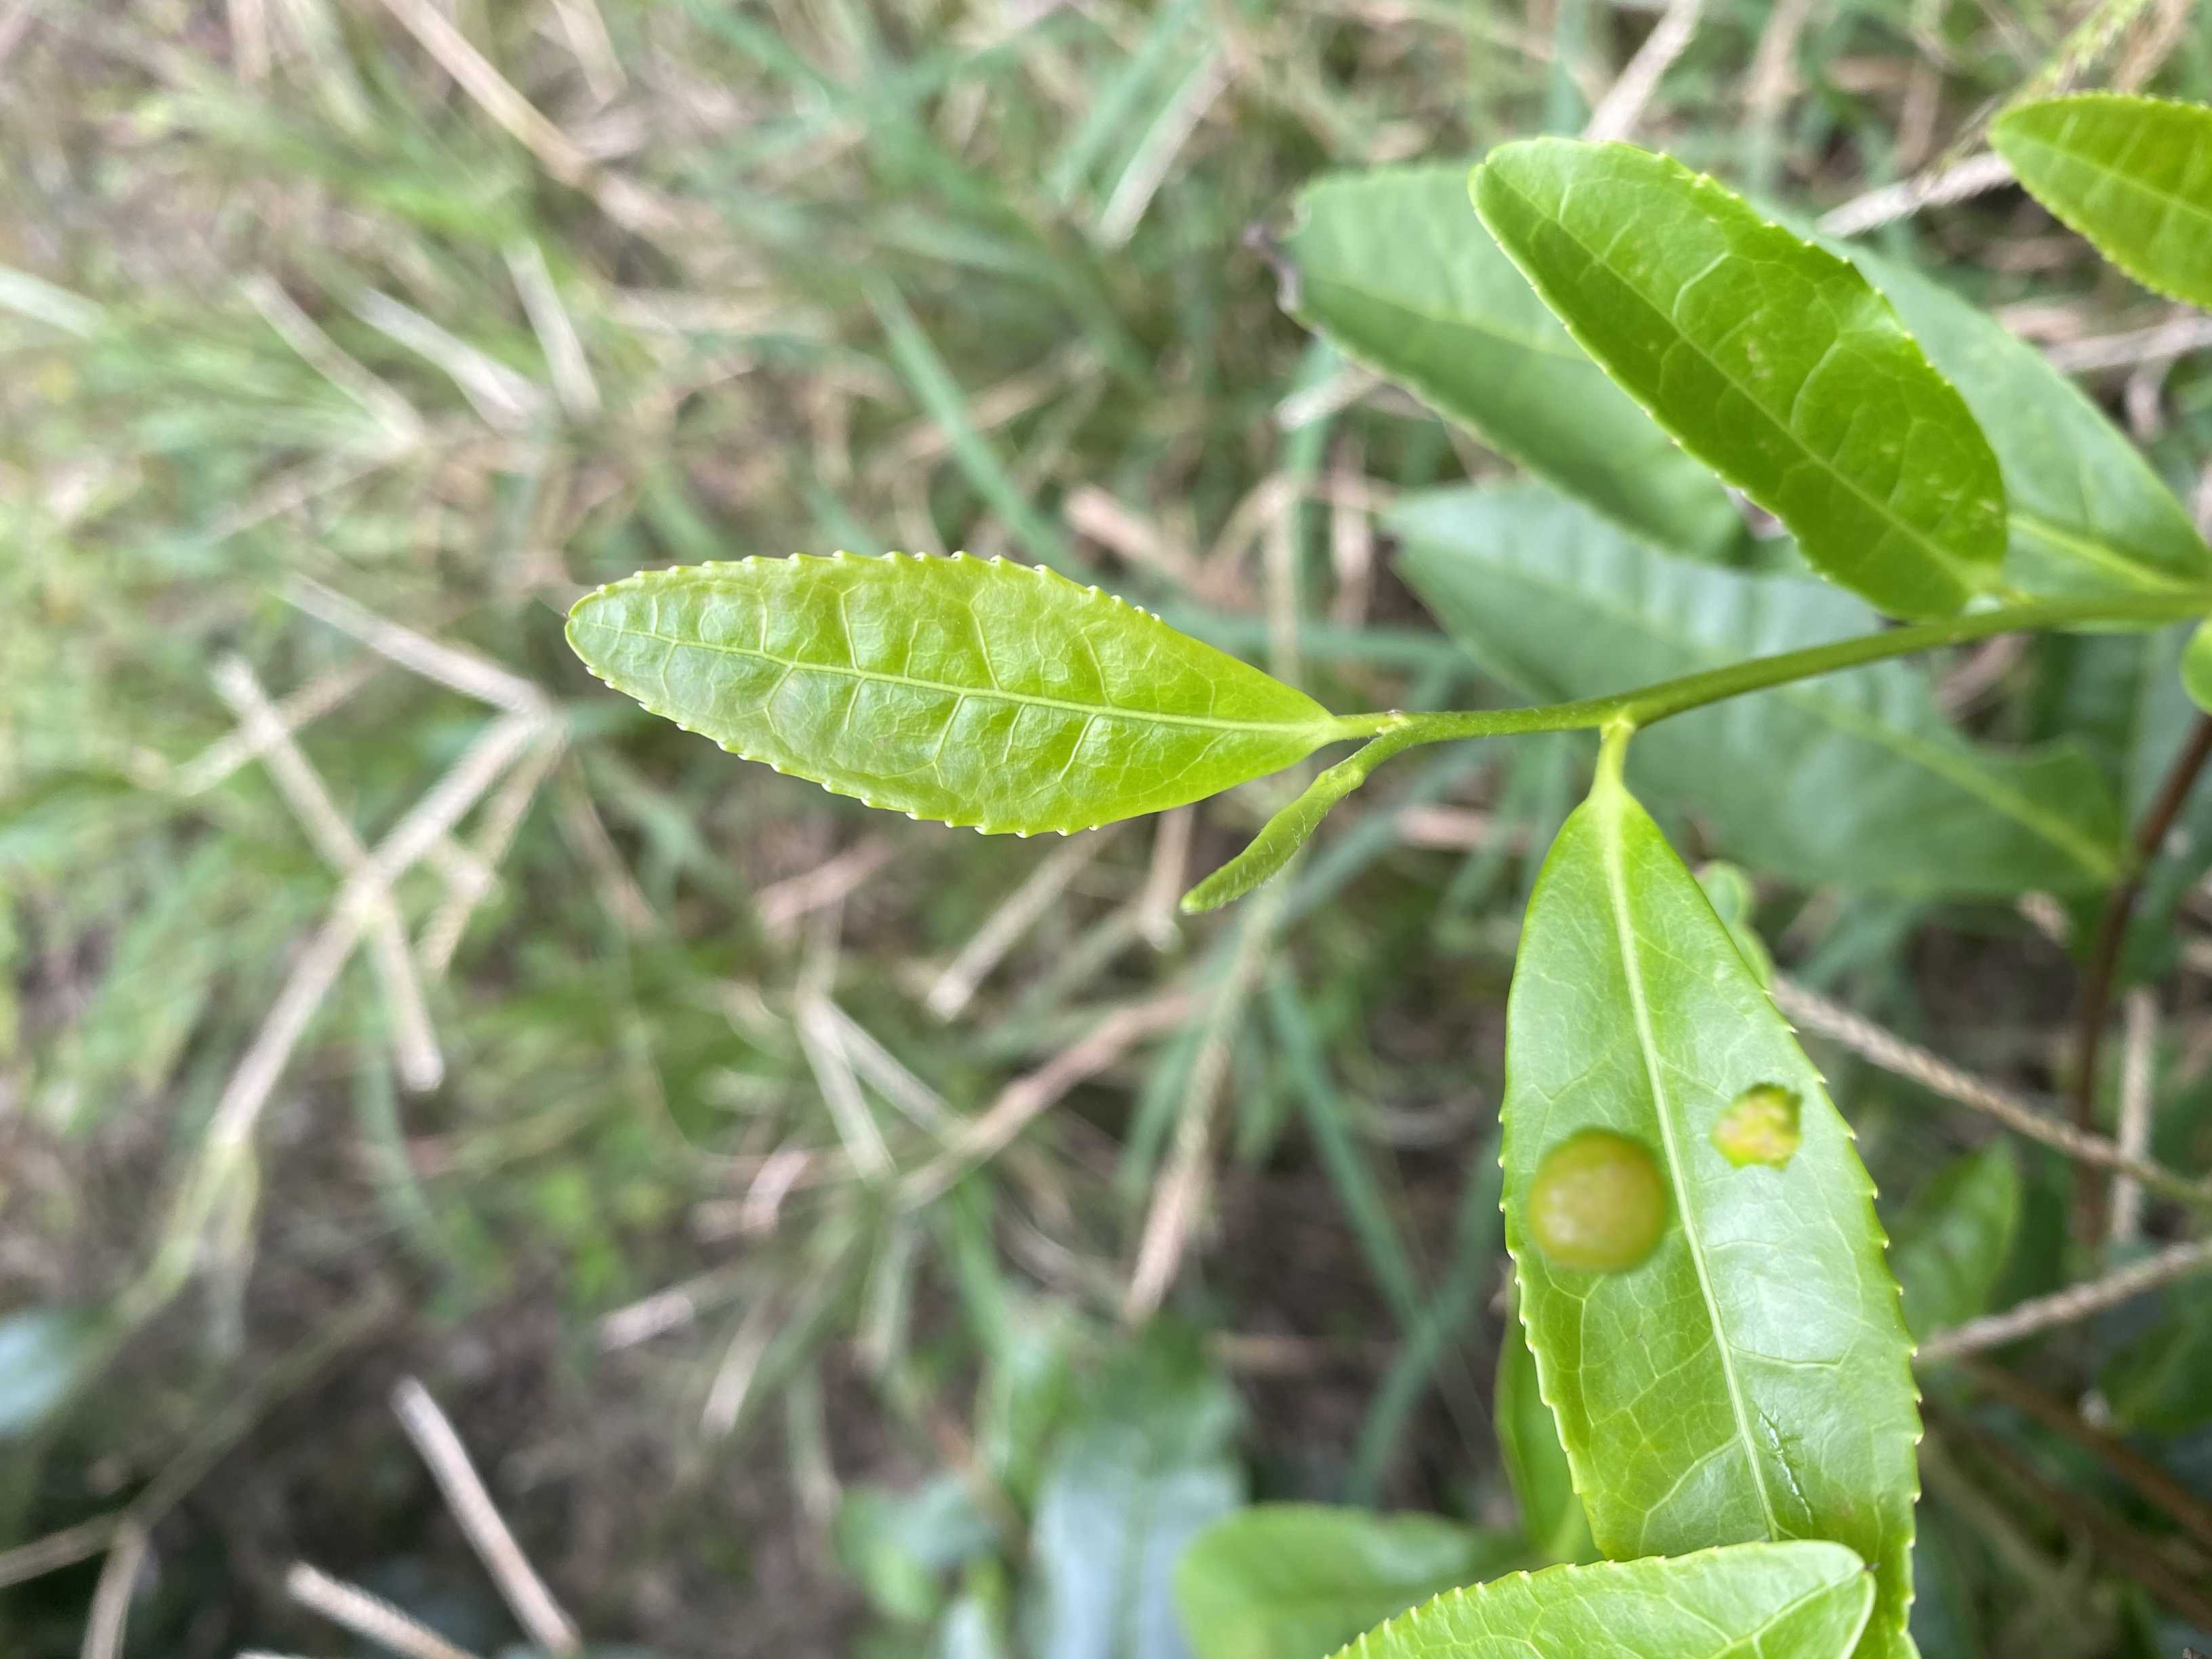chabing_high: (1496, 784, 1928, 1553)
healthy: (1468, 131, 2010, 626), (563, 551, 1320, 842)
